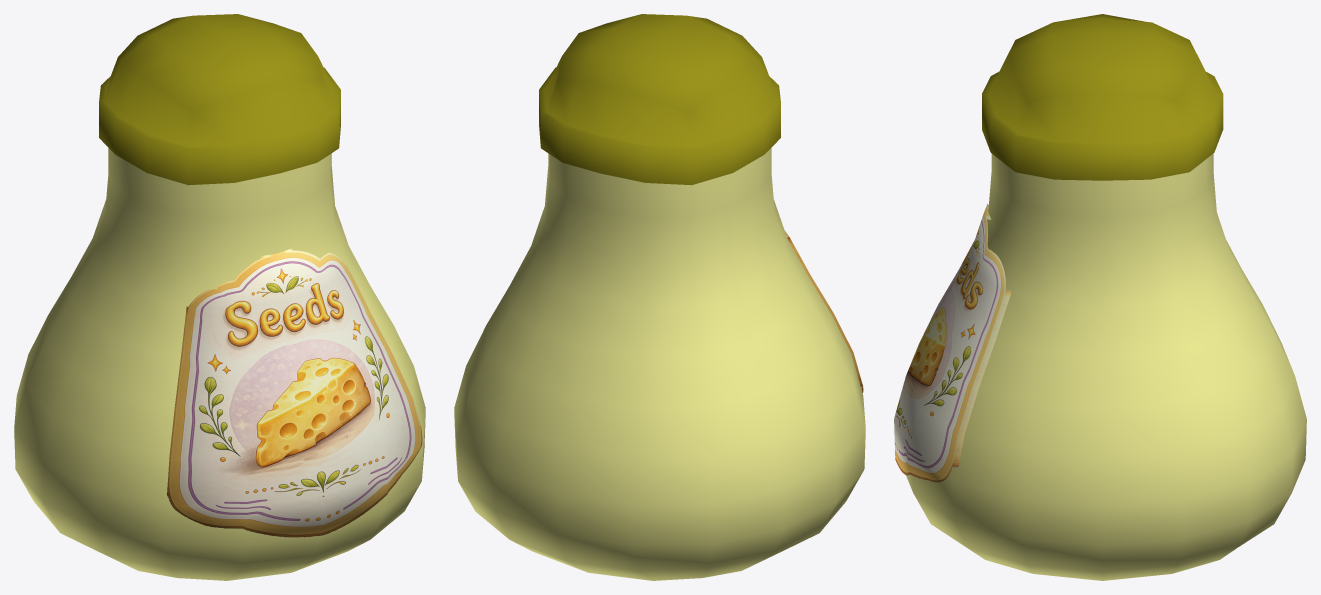
Rendered from seed_cheese.glb.
3 views of the same model, side by side, from view 1: azimuth 30°, elevation 25°; view 2: azimuth 150°, elevation 25°; view 3: azimuth 270°, elevation 25° (orthographic).
Visible parts, largest first — view 1: seed_cheese; view 2: seed_cheese; view 3: seed_cheese.
Boxes of the visible parts, box(x1,y1,x2,y2) form: seed_cheese: box(14, 14, 425, 580); seed_cheese: box(454, 14, 865, 580); seed_cheese: box(894, 14, 1306, 580).
Size of what is drawn, in the model's own units: 0.3161 by 0.4348 by 0.3193.
3 materials, 1 textured.
